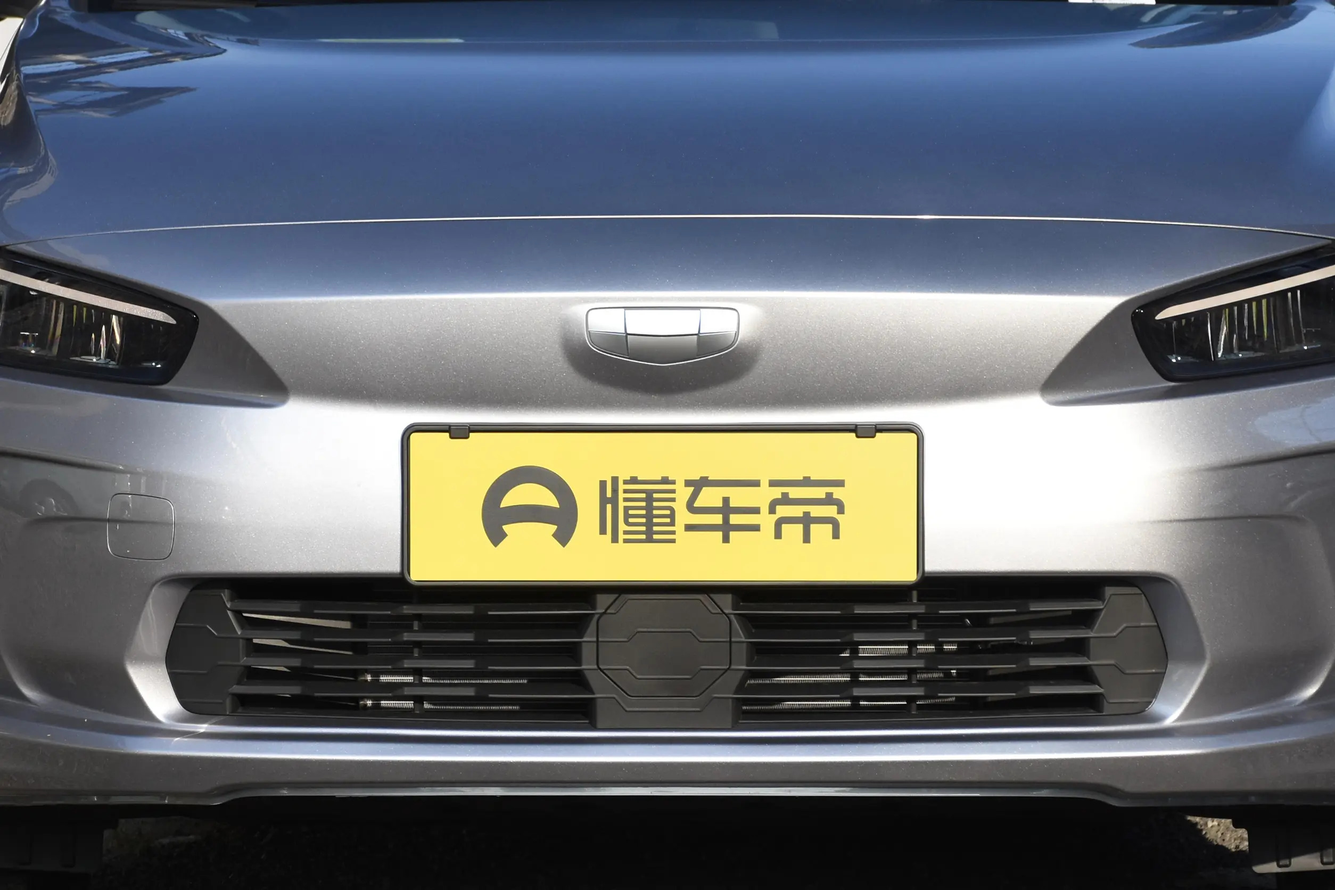GEOMETRY: (588, 308, 738, 364)
